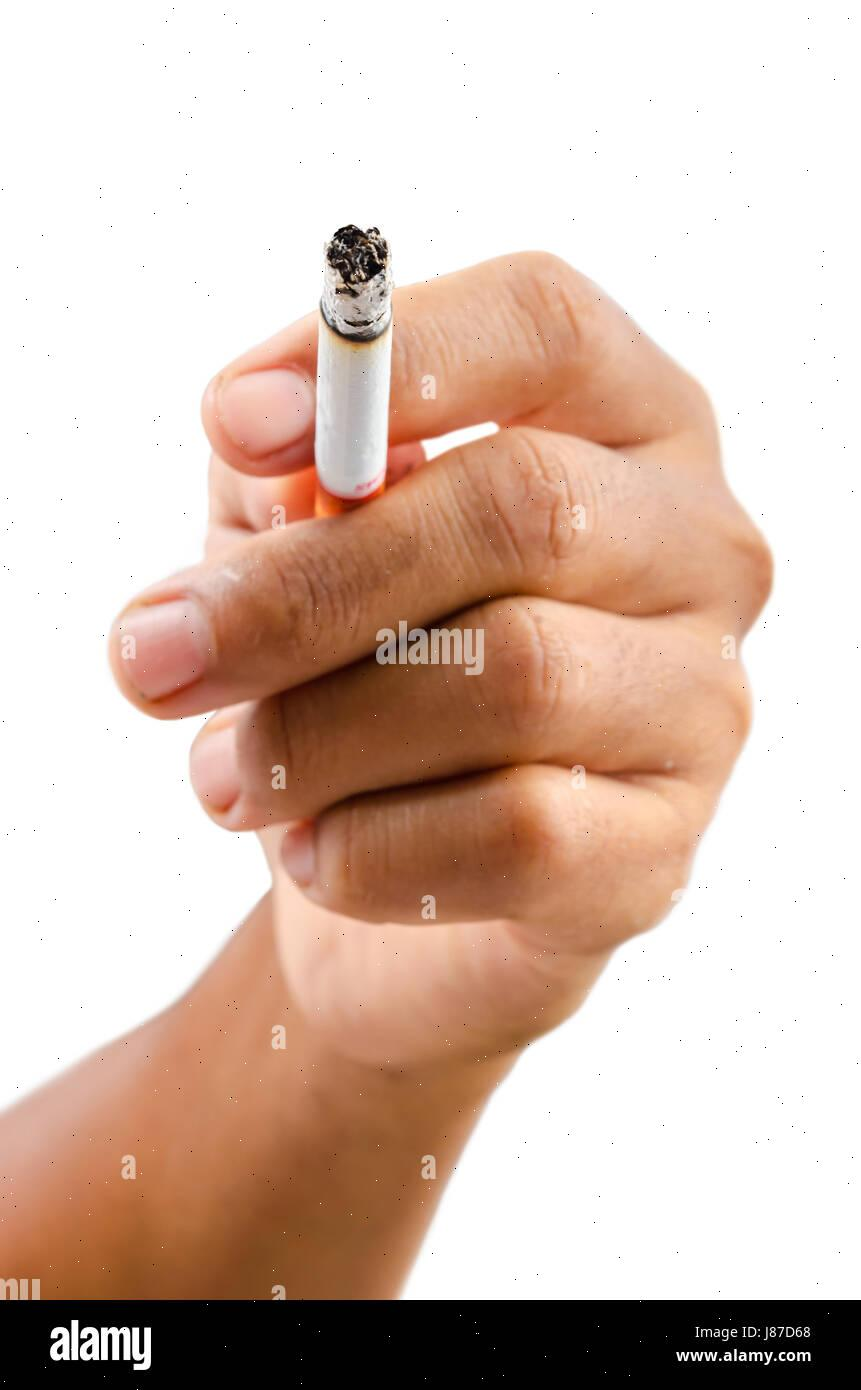cigarette: (315, 225, 391, 515)
